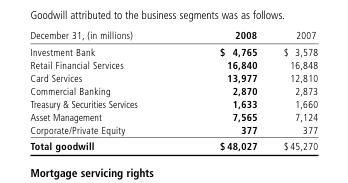table: (29, 28, 317, 151)
table column: (29, 28, 177, 151), (177, 28, 269, 151), (269, 28, 317, 151)
table column header: (29, 28, 317, 43)
table row: (29, 28, 317, 43), (29, 43, 317, 58), (29, 122, 317, 137), (29, 137, 317, 151), (29, 70, 317, 83), (29, 83, 317, 96), (29, 96, 317, 109), (29, 109, 317, 122), (29, 58, 317, 70)
